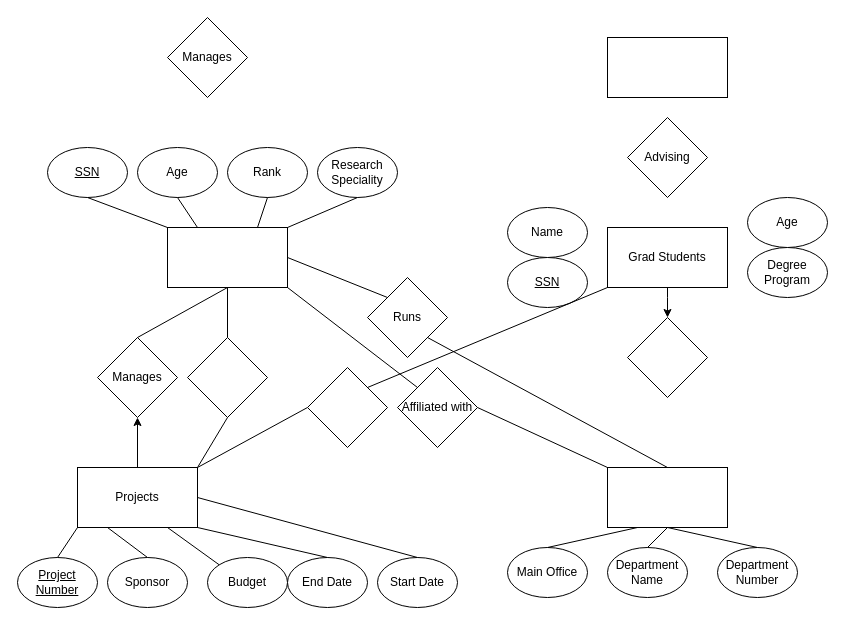
The diagram is 845 pixels wide and 625 high, and some of its shapes have lost their labels. The shapes that lost their labels are listed below. From the top down, each one's centre as x and y in pixels, then its label:
At point (667, 67): "Senior Grad Student".
At point (227, 257): "Professors".
At point (227, 377): "Worked On".
At point (667, 357): "Work On".
At point (347, 407): "Assigned To".
At point (667, 497): "Department".
